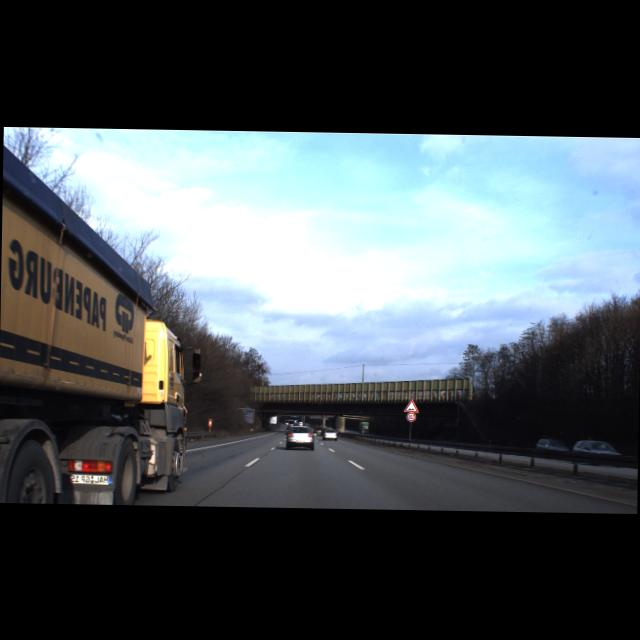danger: (404, 398, 419, 412)
prohibitory: (406, 412, 416, 422)
